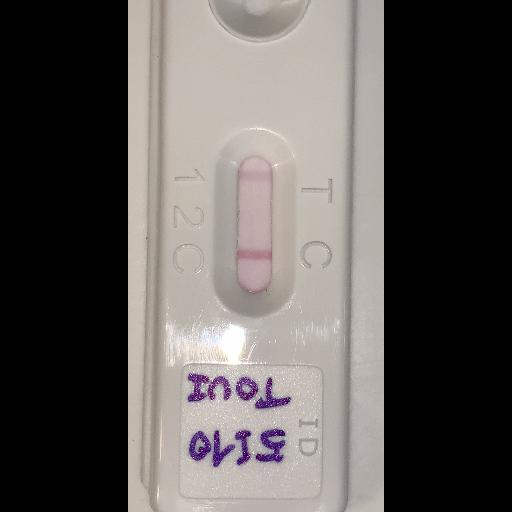Pos: (152, 0, 356, 512)
